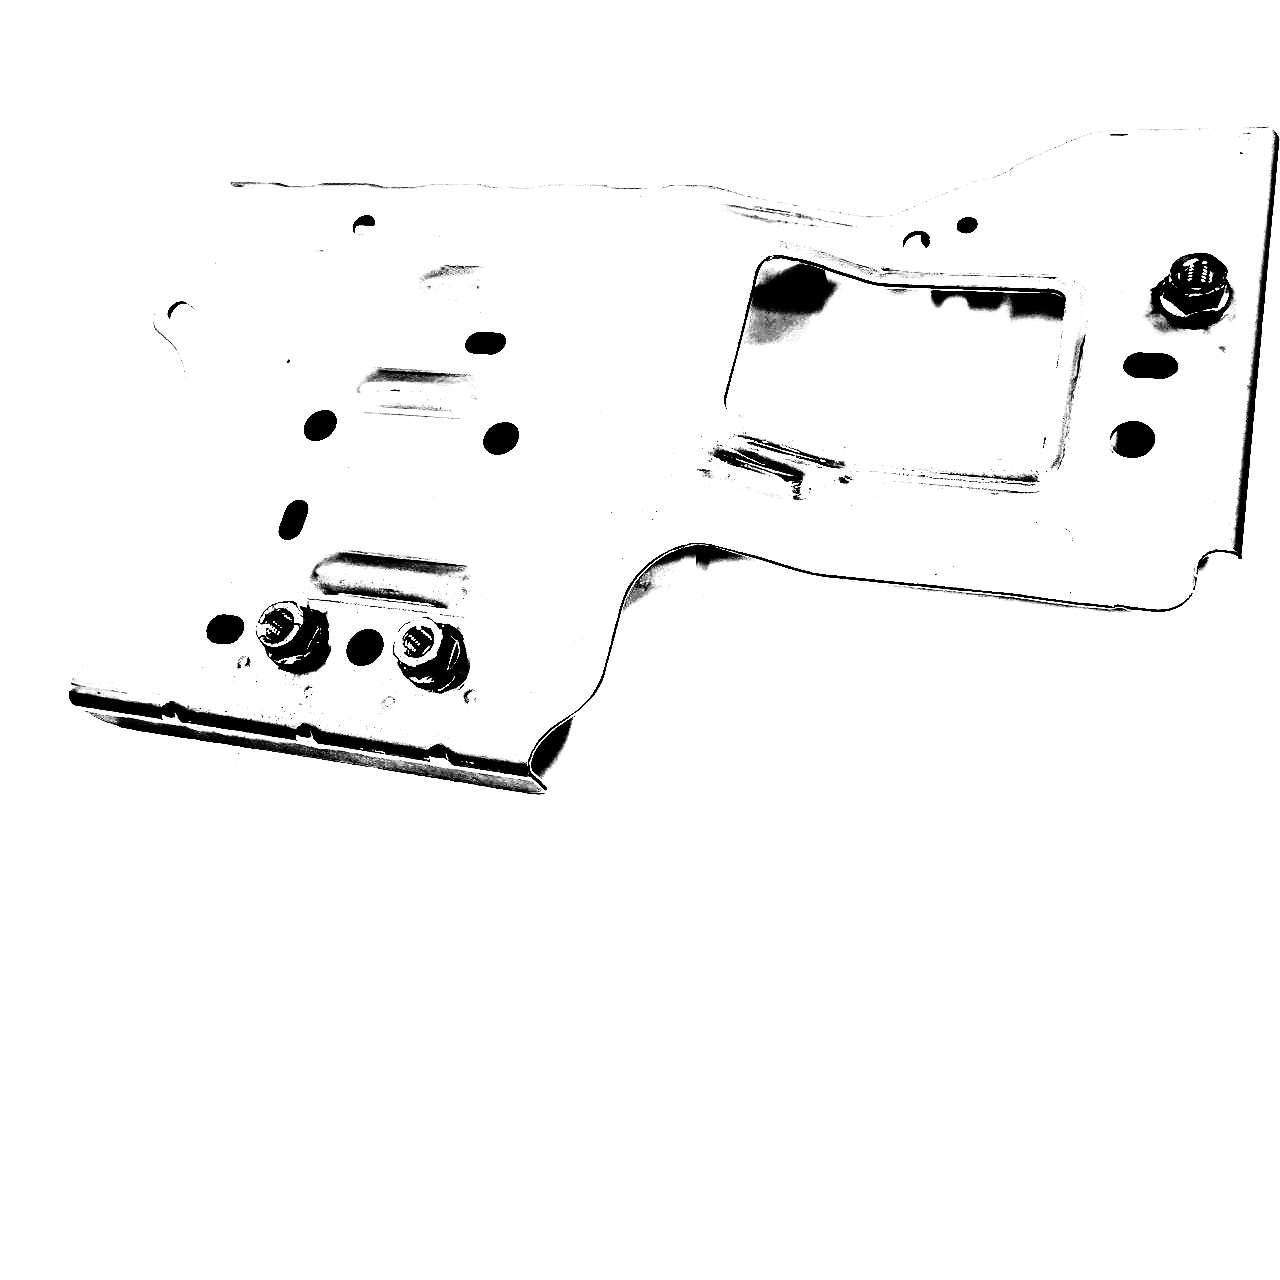dog: (1150, 250, 1235, 334), (390, 612, 470, 692), (252, 595, 332, 674)
